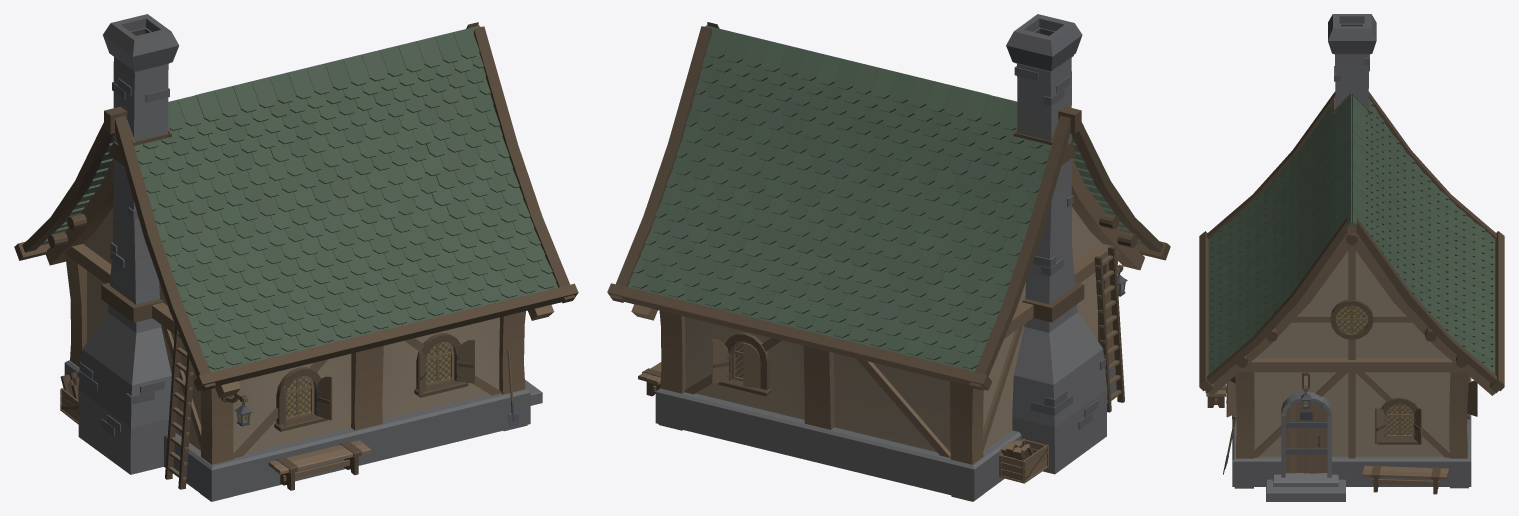
File: medival_house_only.fbx
3 views of the same model, side by side, from view 1: azimuth 30°, elevation 25°; view 2: azimuth 150°, elevation 25°; view 3: azimuth 270°, elevation 25° (orthographic). The views are drawn at different scales.
Visible parts, largest first — view 1: polySurface24651, polySurface24682, polySurface24905, polySurface24663, polySurface25538, polySurface24684, polySurface25218, polySurface25345, polySurface24470, polySurface25120, polySurface25547, polySurface25051 (+11 smaller); view 2: polySurface24651, polySurface24682, polySurface24905, polySurface24823, polySurface25120, polySurface25488, polySurface25218, polySurface25597, polySurface24264, polySurface25538, polySurface25547, polySurface25619 (+9 smaller); view 3: polySurface24682, polySurface24905, polySurface24506, polySurface25551, polySurface24684, polySurface25488, polySurface25218, polySurface25051, polySurface25619, polySurface24651, polySurface24823, polySurface24663 (+19 smaller).
Part boxes in pixels (x1,y1,x2,y2): polySurface24651: (78, 27, 171, 474); polySurface24682: (83, 207, 499, 453); polySurface24905: (64, 360, 530, 501); polySurface24663: (194, 283, 578, 390); polySurface25538: (115, 116, 215, 390); polySurface24684: (474, 26, 575, 303); polySurface25218: (103, 14, 179, 71); polySurface25345: (351, 346, 383, 430); polySurface24470: (200, 387, 233, 501); polySurface25120: (22, 122, 114, 252); polySurface25547: (45, 158, 240, 397); polySurface25051: (499, 311, 527, 431); polySurface24651: (1012, 27, 1107, 474); polySurface24682: (685, 207, 1101, 452); polySurface24905: (655, 367, 1116, 500); polySurface24823: (607, 283, 992, 390); polySurface25120: (969, 115, 1070, 390); polySurface25488: (610, 26, 711, 302); polySurface25218: (1006, 14, 1082, 71); polySurface25597: (950, 381, 983, 501); polySurface24264: (803, 346, 834, 429); polySurface25538: (1071, 122, 1162, 252); polySurface25547: (1071, 158, 1144, 270); polySurface25619: (658, 310, 685, 430); polySurface24682: (1254, 251, 1450, 456); polySurface24905: (1232, 377, 1471, 486); polySurface24506: (1208, 224, 1495, 395); polySurface25551: (1239, 358, 1464, 372); polySurface24684: (1199, 217, 1347, 391); polySurface25488: (1356, 217, 1504, 391); polySurface25218: (1328, 14, 1376, 54); polySurface25051: (1234, 372, 1254, 488); polySurface25619: (1449, 372, 1468, 488); polySurface24651: (1335, 23, 1369, 108); polySurface24823: (1490, 231, 1504, 393); polySurface24663: (1199, 231, 1213, 393).
Size of the model in its own units: 2.73 by 2.84 by 2.3.
